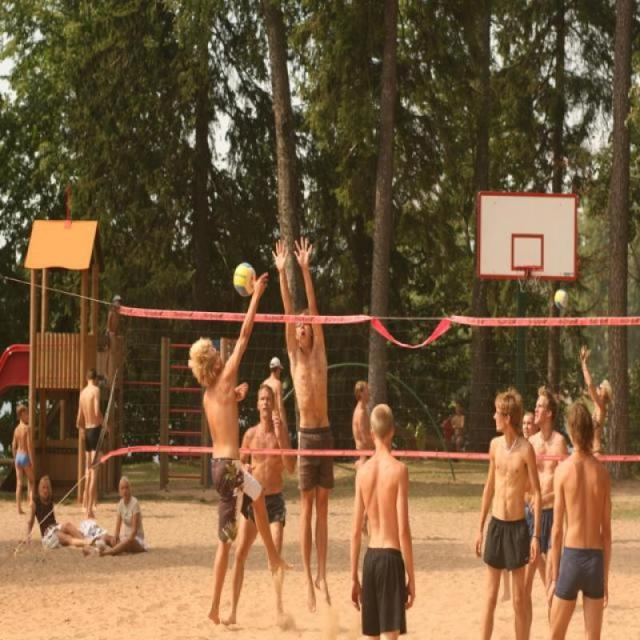volleyball: (233, 259, 256, 298)
